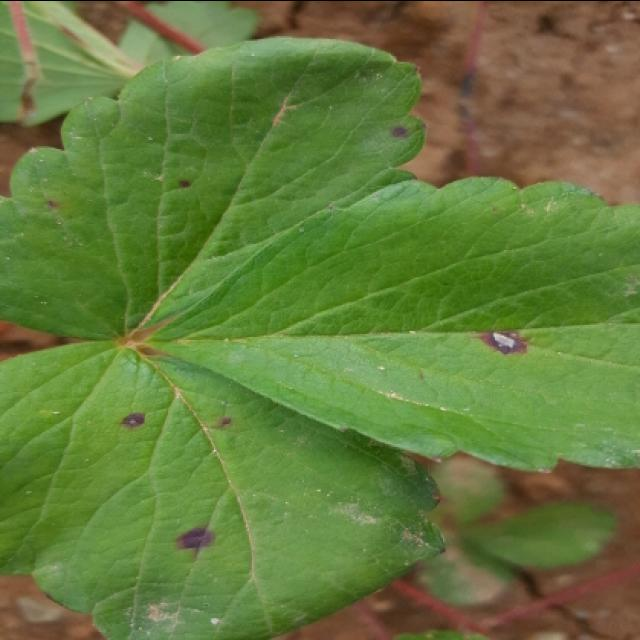Leaf Spot: (141, 174, 638, 475), (0, 340, 448, 638), (0, 35, 427, 340), (420, 456, 515, 535)
